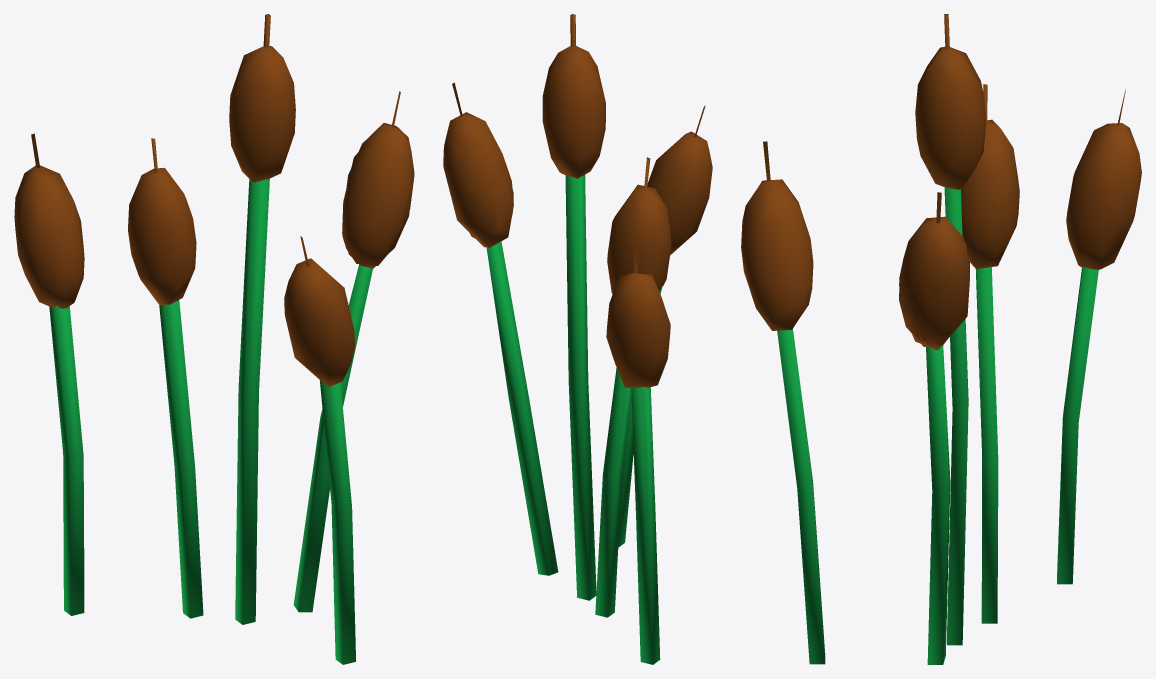
The model's file is cattails.fbx.
3 renders of one model, left to right at view 1: azimuth 30°, elevation 25°; view 2: azimuth 150°, elevation 25°; view 3: azimuth 270°, elevation 25°, orthographic. The views are drawn at different scales.
Visible parts, largest first — view 1: cattail; view 2: cattail; view 3: cattail.
Boxes of the visible parts, x1,y1,x2,y2 form: cattail: (14, 14, 414, 664); cattail: (443, 14, 712, 664); cattail: (741, 14, 1141, 664).
Bounding box in the file's own units: 528 × 983 × 560.
